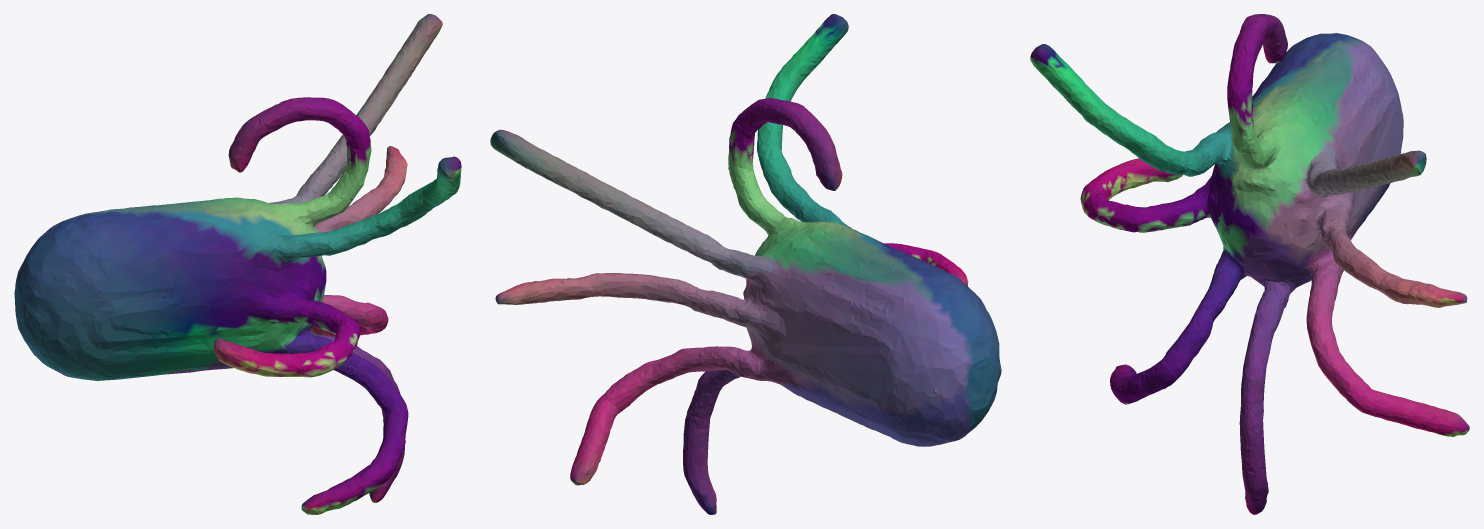
The model's file is octopus-8.off.obj.
3 renders of one model, left to right at view 1: azimuth 30°, elevation 25°; view 2: azimuth 150°, elevation 25°; view 3: azimuth 270°, elevation 25°, orthographic. The views are drawn at different scales.
Size of the model in its own units: 1.36 by 1.21 by 1.06.
